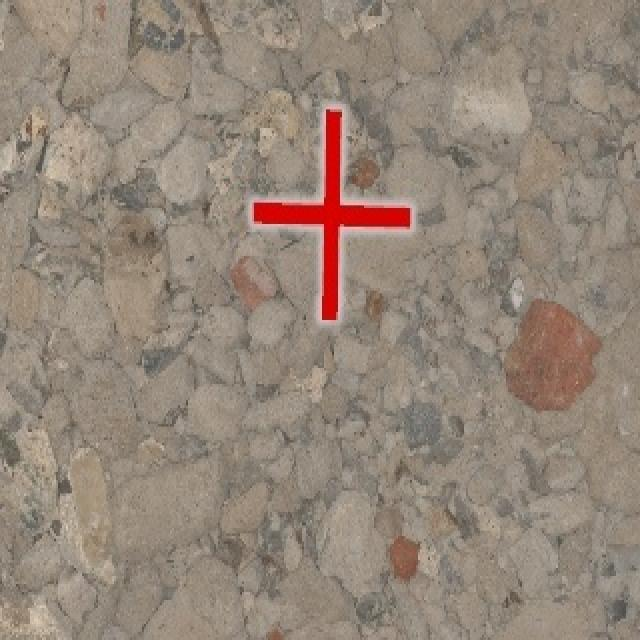x_marker: (251, 108, 411, 319)
